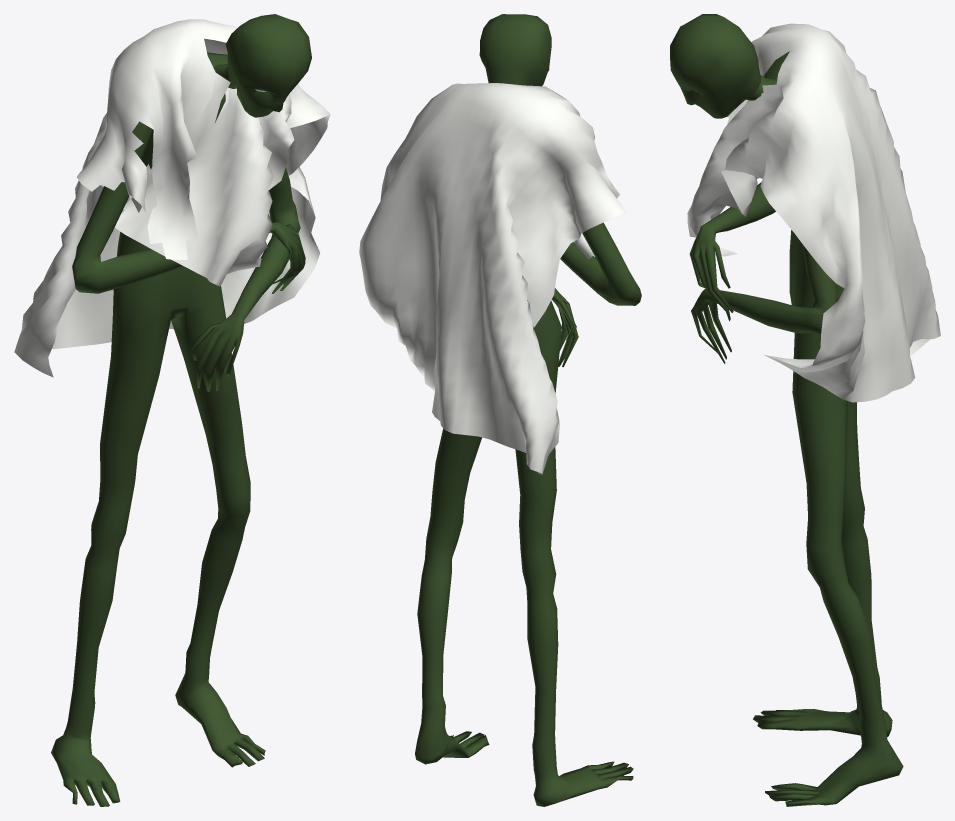
Rendered from AlienEnemy.fbx.
The picture shows the model from 3 angles, left to right: view 1: azimuth 30°, elevation 25°; view 2: azimuth 150°, elevation 25°; view 3: azimuth 270°, elevation 25°; orthographic projection. The views are drawn at different scales.
Parts seen in each view (by area): view 1: body, cap, head; view 2: cap, body, head; view 3: cap, body, head.
Part boxes in pixels (x1,y1,x2,y2): body: (51,52,305,806); cap: (14,19,330,377); head: (213,14,311,117); cap: (359,83,626,474); body: (415,222,641,806); head: (479,14,551,86); cap: (687,23,940,402); body: (689,51,903,806); head: (670,14,777,118).
Size of the model in its own units: 118 by 323 by 103.
